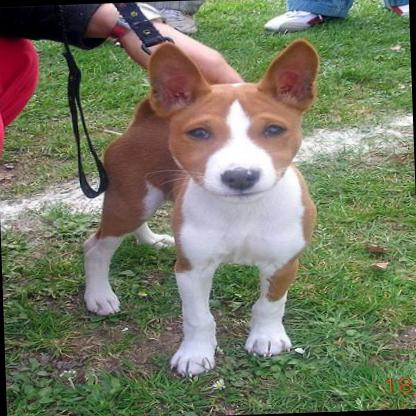basenji: (73, 32, 330, 376)
